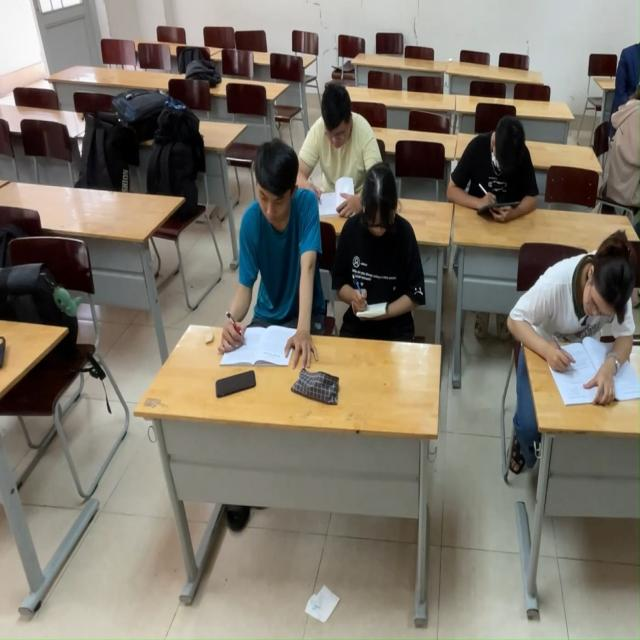read: (505, 194, 640, 412), (208, 147, 306, 387), (334, 187, 428, 331), (446, 104, 530, 228), (301, 94, 370, 211)
